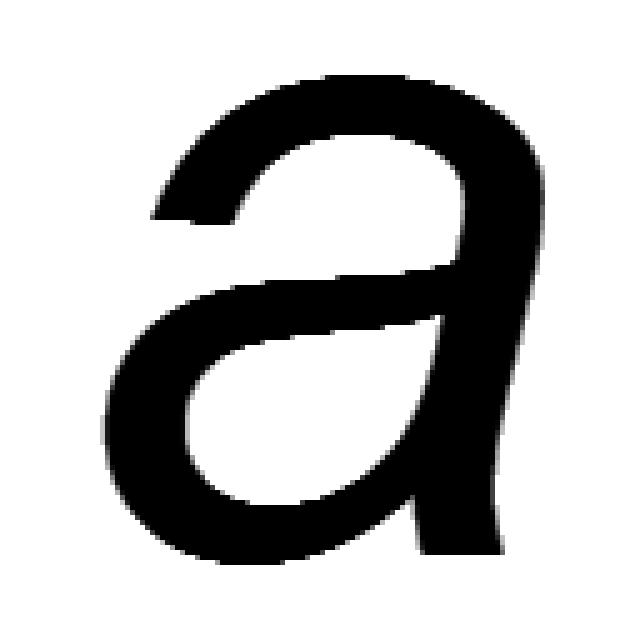A: (90, 60, 555, 570)
